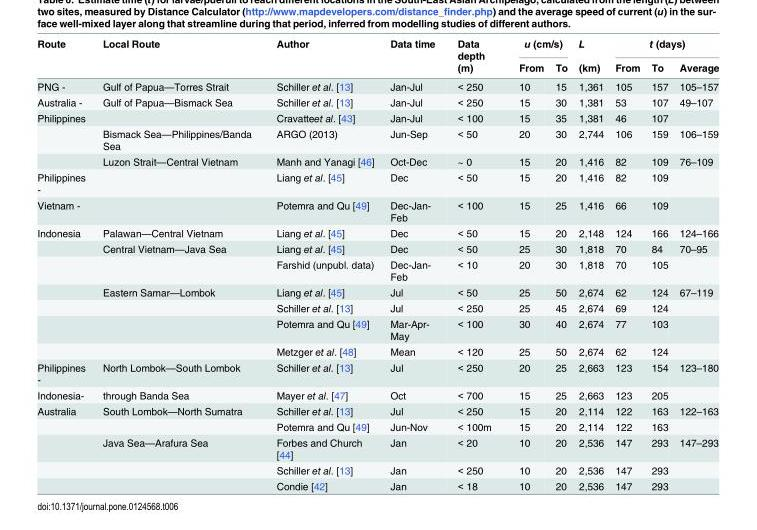table: (36, 36, 718, 491)
table column: (93, 36, 263, 491), (263, 36, 381, 491), (381, 36, 445, 491), (445, 36, 504, 491), (36, 36, 93, 491), (673, 36, 718, 491), (504, 36, 548, 491), (608, 36, 645, 491), (572, 36, 608, 491), (645, 36, 673, 491), (548, 36, 572, 491)
table column header: (36, 36, 718, 76)
table row: (36, 125, 718, 153), (36, 196, 718, 224), (36, 315, 718, 343), (36, 169, 718, 196), (36, 256, 718, 283), (36, 359, 718, 386), (36, 434, 718, 461), (36, 36, 718, 61), (36, 76, 718, 94), (36, 461, 718, 478), (36, 109, 718, 125), (36, 153, 718, 169), (36, 224, 718, 240), (36, 240, 718, 256), (36, 283, 718, 299), (36, 299, 718, 315), (36, 343, 718, 359), (36, 386, 718, 402), (36, 402, 718, 418), (36, 418, 718, 434), (36, 61, 718, 76), (36, 94, 718, 109), (36, 478, 718, 491)
table spanning cell: (36, 224, 93, 359), (93, 36, 263, 76), (36, 402, 93, 491), (263, 36, 381, 76), (36, 109, 93, 169), (608, 36, 718, 61), (381, 36, 445, 76), (445, 36, 504, 76), (36, 36, 93, 76), (504, 36, 572, 61), (572, 36, 608, 76)
